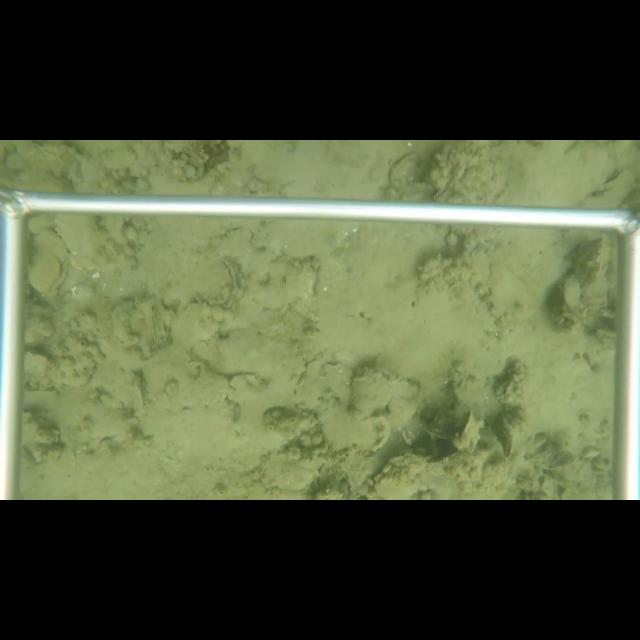Oyster-Closed: (192, 328, 306, 384), (163, 249, 238, 313), (344, 367, 423, 421), (28, 226, 71, 299), (256, 449, 323, 495), (169, 305, 221, 350), (99, 216, 137, 262), (492, 410, 516, 464), (457, 408, 484, 453), (146, 297, 163, 351), (131, 378, 147, 414)
Oyster-Open: (388, 149, 419, 187), (493, 376, 515, 406), (429, 187, 452, 201)
